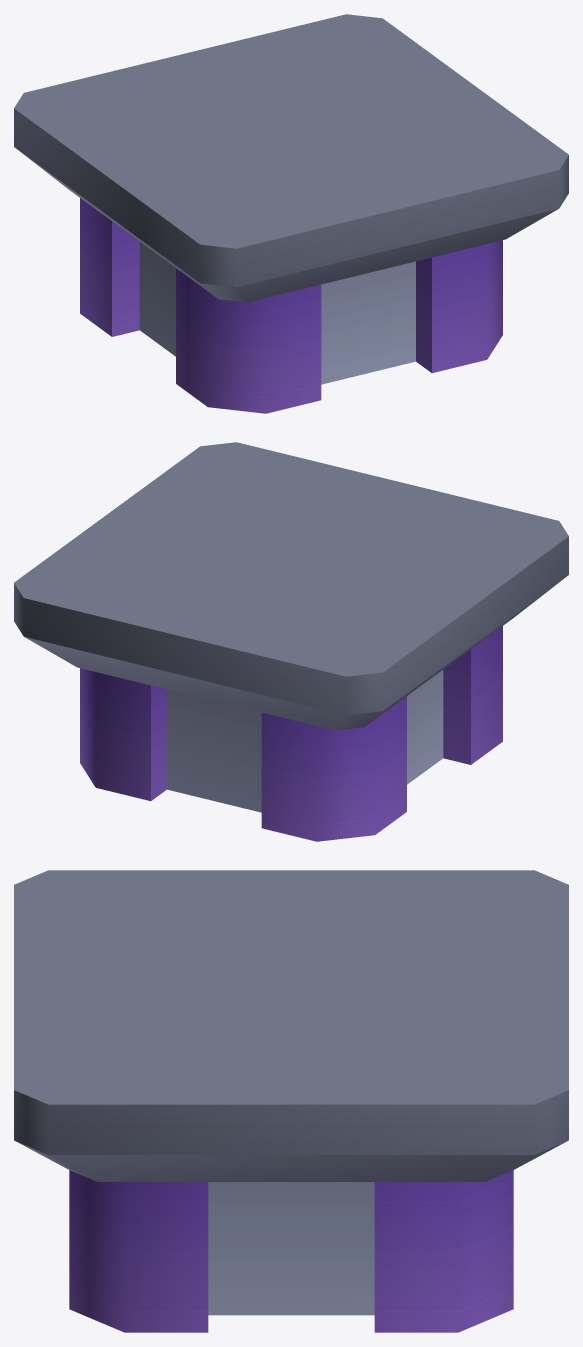
File: kenney-tower-defense-tower-square-middle-b.glb
3 views of the same model, one above another, from view 1: azimuth 30°, elevation 25°; view 2: azimuth 150°, elevation 25°; view 3: azimuth 270°, elevation 25° (orthographic). The views are drawn at different scales.
Visible parts, largest first — view 1: tower-square-middle-b; view 2: tower-square-middle-b; view 3: tower-square-middle-b.
Boxes of the visible parts, x1=… form: tower-square-middle-b: x1=14, y1=14, x2=568, y2=413; tower-square-middle-b: x1=14, y1=442, x2=568, y2=841; tower-square-middle-b: x1=14, y1=870, x2=568, y2=1332.
Size of the model in its own units: 1 by 0.5001 by 1.
Materials: 1 (1 with a texture image).
